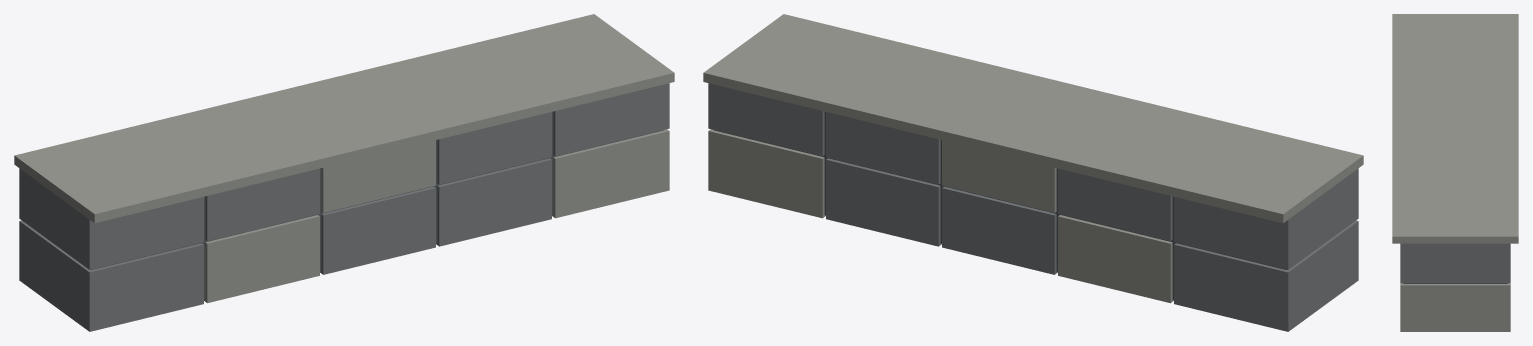
Rendered from 326_stone_foundation_straight.fbx.
The picture shows the model from 3 angles, left to right: view 1: azimuth 30°, elevation 25°; view 2: azimuth 150°, elevation 25°; view 3: azimuth 270°, elevation 25°; orthographic projection. The views are drawn at different scales.
Visible parts, largest first — view 1: 326_stone_foundation_straight; view 2: 326_stone_foundation_straight; view 3: 326_stone_foundation_straight.
Boxes of the visible parts, x1,y1,x2,y2 form: 326_stone_foundation_straight: (14,14,674,331); 326_stone_foundation_straight: (703,14,1363,331); 326_stone_foundation_straight: (1392,14,1518,331).
Bounding box in the file's own units: 2 × 0.4 × 0.48.
1 material, 1 textured.
